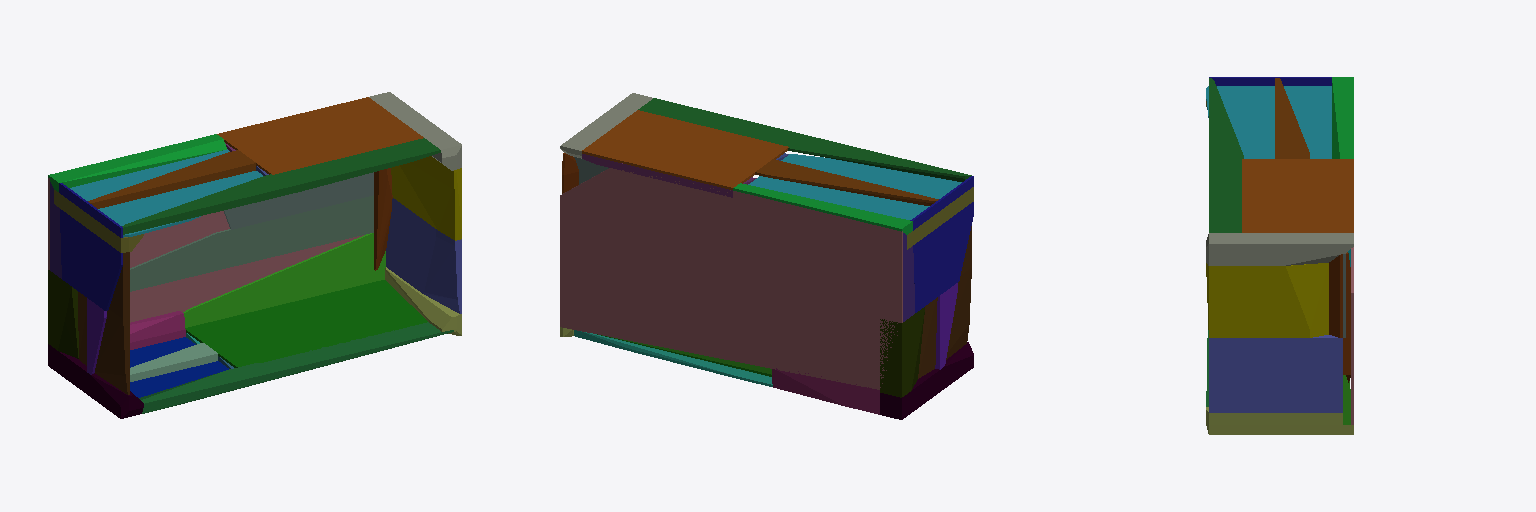
File: Boite2.obj
3 renders of one model, left to right at view 1: azimuth 30°, elevation 25°; view 2: azimuth 150°, elevation 25°; view 3: azimuth 270°, elevation 25°, orthographic.
Visible parts, largest first — view 1: ShapeIndexedFaceSet.015_ShapeIndexedFaceSet.380, ShapeIndexedFaceSet.017_ShapeIndexedFaceSet.382, ShapeIndexedFaceSet.023_ShapeIndexedFaceSet.388, ShapeIndexedFaceSet.004_ShapeIndexedFaceSet.369, ShapeIndexedFaceSet.014_ShapeIndexedFaceSet.379, ShapeIndexedFaceSet.003_ShapeIndexedFaceSet.368, ShapeIndexedFaceSet.008_ShapeIndexedFaceSet.373, ShapeIndexedFaceSet.028_ShapeIndexedFaceSet.393, ShapeIndexedFaceSet.013_ShapeIndexedFaceSet.378, ShapeIndexedFaceSet.031_ShapeIndexedFaceSet, ShapeIndexedFaceSet.027_ShapeIndexedFaceSet.392, ShapeIndexedFaceSet.021_ShapeIndexedFaceSet.386 (+14 smaller); view 2: ShapeIndexedFaceSet.004_ShapeIndexedFaceSet.369, ShapeIndexedFaceSet.023_ShapeIndexedFaceSet.388, ShapeIndexedFaceSet.031_ShapeIndexedFaceSet, ShapeIndexedFaceSet.003_ShapeIndexedFaceSet.368, ShapeIndexedFaceSet.013_ShapeIndexedFaceSet.378, ShapeIndexedFaceSet.020_ShapeIndexedFaceSet.385, ShapeIndexedFaceSet.021_ShapeIndexedFaceSet.386, ShapeIndexedFaceSet.030_ShapeIndexedFaceSet.395, ShapeIndexedFaceSet.009_ShapeIndexedFaceSet.374, ShapeIndexedFaceSet.007_ShapeIndexedFaceSet.372, ShapeIndexedFaceSet.001_ShapeIndexedFaceSet.366, ShapeIndexedFaceSet.016_ShapeIndexedFaceSet.381 (+6 smaller); view 3: ShapeIndexedFaceSet.028_ShapeIndexedFaceSet.393, ShapeIndexedFaceSet.027_ShapeIndexedFaceSet.392, ShapeIndexedFaceSet.023_ShapeIndexedFaceSet.388, ShapeIndexedFaceSet.031_ShapeIndexedFaceSet, ShapeIndexedFaceSet_ShapeIndexedFaceSet.365, ShapeIndexedFaceSet.003_ShapeIndexedFaceSet.368, ShapeIndexedFaceSet.002_ShapeIndexedFaceSet.367, ShapeIndexedFaceSet.005_ShapeIndexedFaceSet.370, ShapeIndexedFaceSet.001_ShapeIndexedFaceSet.366, ShapeIndexedFaceSet.030_ShapeIndexedFaceSet.395, ShapeIndexedFaceSet.013_ShapeIndexedFaceSet.378, ShapeIndexedFaceSet.004_ShapeIndexedFaceSet.369.
Part boxes in pixels (x1,y1,x2,y2): ShapeIndexedFaceSet.015_ShapeIndexedFaceSet.380: (185,280,427,367); ShapeIndexedFaceSet.017_ShapeIndexedFaceSet.382: (130,195,373,291); ShapeIndexedFaceSet.023_ShapeIndexedFaceSet.388: (217,97,423,174); ShapeIndexedFaceSet.004_ShapeIndexedFaceSet.369: (48,178,363,322); ShapeIndexedFaceSet.014_ShapeIndexedFaceSet.379: (183,233,385,327); ShapeIndexedFaceSet.003_ShapeIndexedFaceSet.368: (122,138,440,234); ShapeIndexedFaceSet.008_ShapeIndexedFaceSet.373: (139,322,453,413); ShapeIndexedFaceSet.028_ShapeIndexedFaceSet.393: (386,198,461,313); ShapeIndexedFaceSet.013_ShapeIndexedFaceSet.378: (59,183,122,310); ShapeIndexedFaceSet.031_ShapeIndexedFaceSet: (70,149,262,237); ShapeIndexedFaceSet.027_ShapeIndexedFaceSet.392: (391,156,461,240); ShapeIndexedFaceSet.021_ShapeIndexedFaceSet.386: (78,252,129,394); ShapeIndexedFaceSet.004_ShapeIndexedFaceSet.369: (560,168,902,389); ShapeIndexedFaceSet.023_ShapeIndexedFaceSet.388: (582,110,788,189); ShapeIndexedFaceSet.031_ShapeIndexedFaceSet: (748,154,961,219); ShapeIndexedFaceSet.003_ShapeIndexedFaceSet.368: (638,98,971,181); ShapeIndexedFaceSet.013_ShapeIndexedFaceSet.378: (910,176,973,312); ShapeIndexedFaceSet.020_ShapeIndexedFaceSet.385: (880,307,924,397); ShapeIndexedFaceSet.021_ShapeIndexedFaceSet.386: (918,226,971,378); ShapeIndexedFaceSet.030_ShapeIndexedFaceSet.395: (755,159,938,205); ShapeIndexedFaceSet.009_ShapeIndexedFaceSet.374: (880,342,973,419); ShapeIndexedFaceSet.007_ShapeIndexedFaceSet.372: (772,368,879,414); ShapeIndexedFaceSet.001_ShapeIndexedFaceSet.366: (733,183,912,234); ShapeIndexedFaceSet.016_ShapeIndexedFaceSet.381: (574,330,772,386); ShapeIndexedFaceSet.028_ShapeIndexedFaceSet.393: (1209,335,1342,412); ShapeIndexedFaceSet.027_ShapeIndexedFaceSet.392: (1206,263,1328,337); ShapeIndexedFaceSet.023_ShapeIndexedFaceSet.388: (1242,159,1353,232); ShapeIndexedFaceSet.031_ShapeIndexedFaceSet: (1206,86,1331,158); ShapeIndexedFaceSet_ShapeIndexedFaceSet.365: (1206,233,1353,265); ShapeIndexedFaceSet.003_ShapeIndexedFaceSet.368: (1209,78,1243,232); ShapeIndexedFaceSet.002_ShapeIndexedFaceSet.367: (1206,407,1353,434); ShapeIndexedFaceSet.005_ShapeIndexedFaceSet.370: (1329,252,1350,382); ShapeIndexedFaceSet.001_ShapeIndexedFaceSet.366: (1332,77,1353,158); ShapeIndexedFaceSet.030_ShapeIndexedFaceSet.395: (1275,78,1309,158); ShapeIndexedFaceSet.013_ShapeIndexedFaceSet.378: (1209,77,1331,85); ShapeIndexedFaceSet.004_ShapeIndexedFaceSet.369: (1351,247,1353,424).
Bounding box in the file's own units: 60.42 × 32.31 × 22.66.